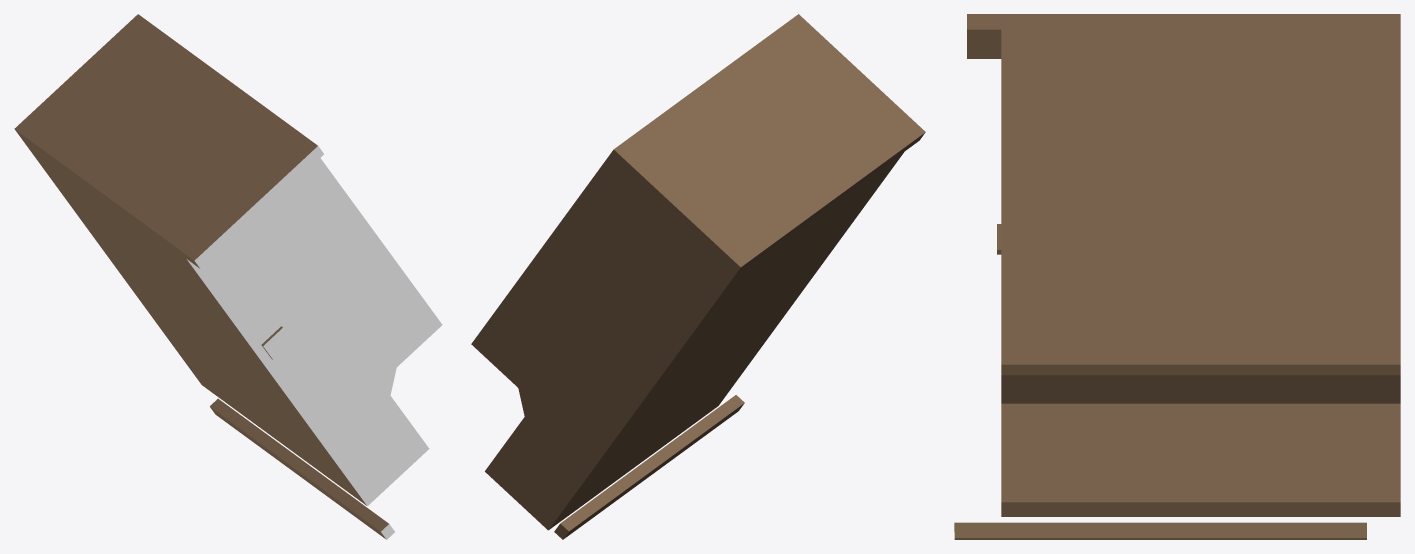
3 views of the same model, side by side, from view 1: azimuth 30°, elevation 25°; view 2: azimuth 150°, elevation 25°; view 3: azimuth 270°, elevation 25° (orthographic). The views are drawn at different scales.
Parts seen in each view (by area): view 1: City_PC-08622; view 2: City_PC-08622; view 3: City_PC-08622.
Boxes of the visible parts, x1,y1,x2,y2 form: City_PC-08622: (14, 14, 442, 539); City_PC-08622: (471, 14, 925, 539); City_PC-08622: (954, 14, 1400, 539).
Bounding box in the file's own units: 1276 × 1885 × 1559.
